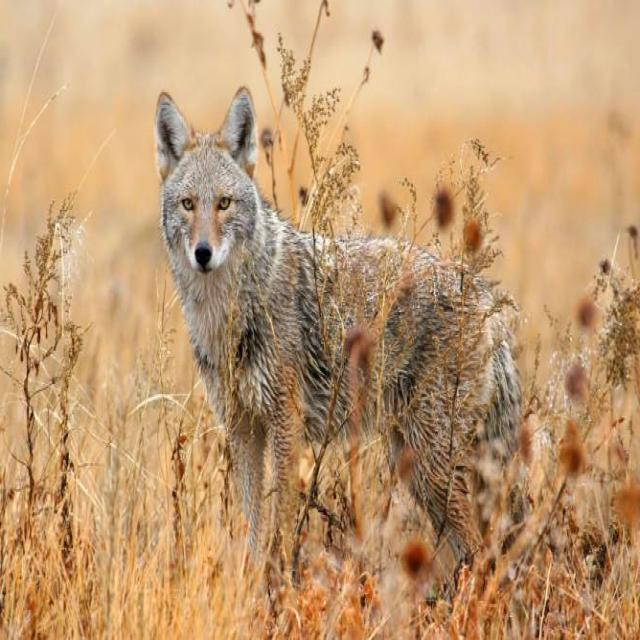coyote: (156, 88, 520, 555)
